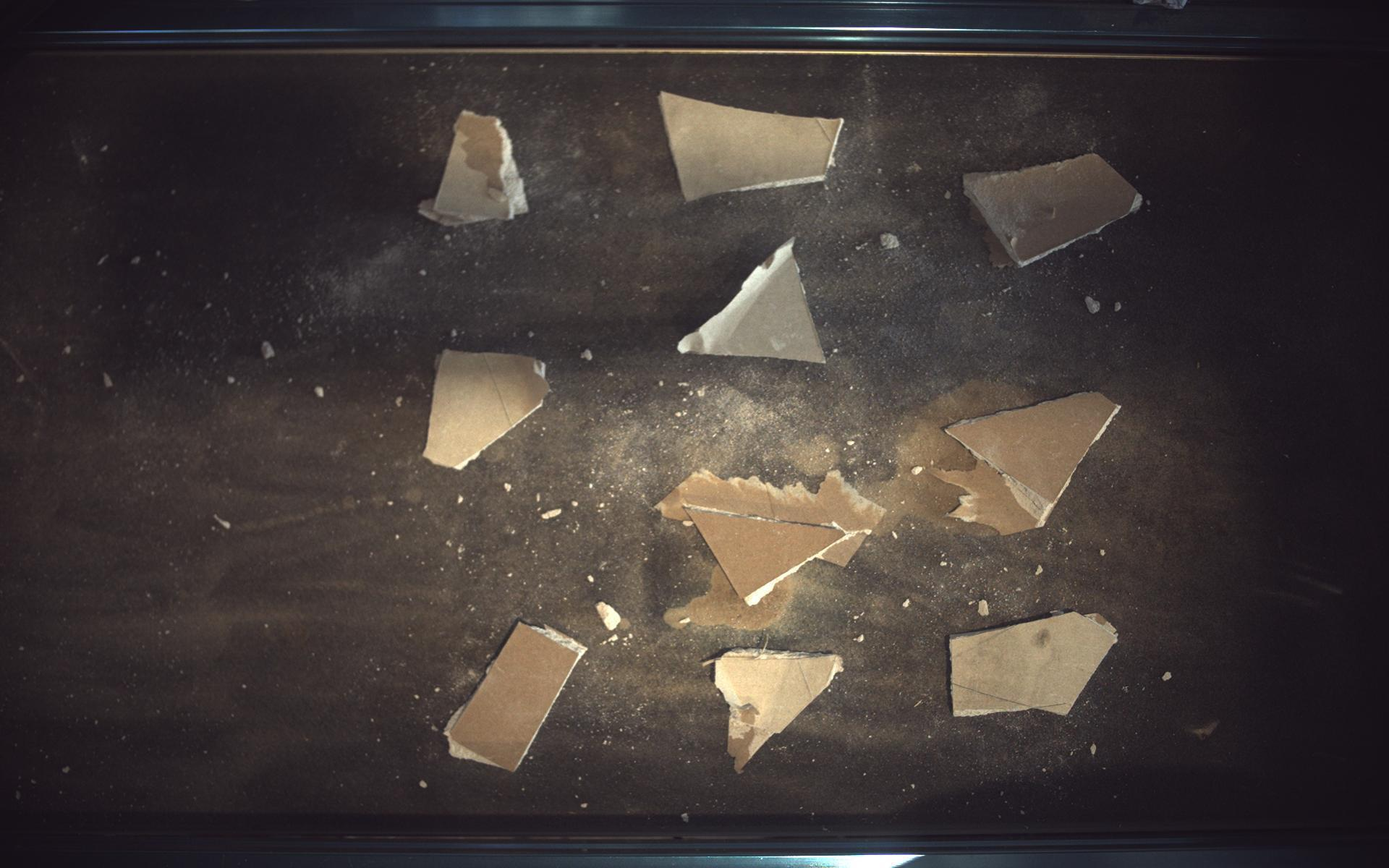gypsum_board: (658, 469, 886, 606), (935, 393, 1123, 535), (444, 624, 587, 773), (965, 153, 1145, 266), (660, 91, 844, 200), (679, 239, 827, 363), (951, 613, 1121, 718), (715, 650, 844, 773), (423, 349, 549, 469), (418, 109, 529, 226)
